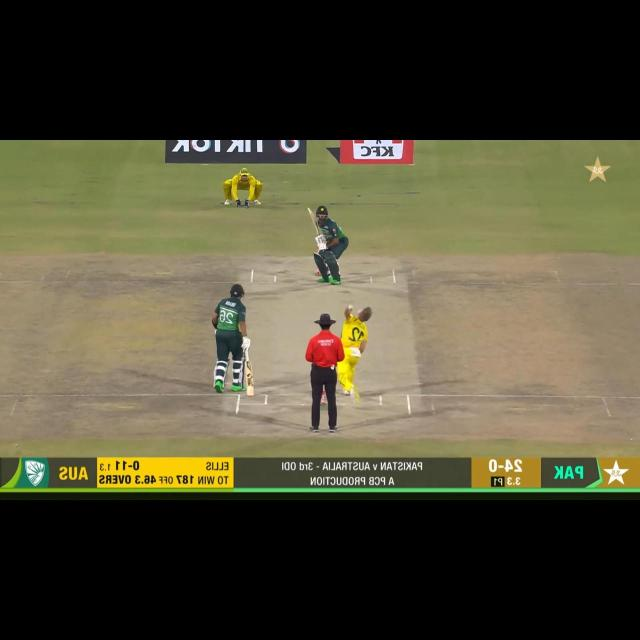bat: (304, 206, 322, 237), (244, 362, 257, 398)
toe: (305, 206, 315, 216), (246, 392, 255, 397)
